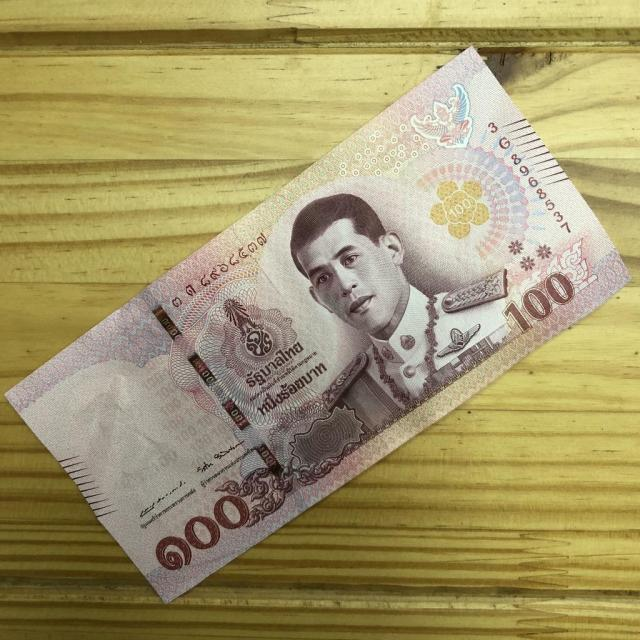THAI100: (6, 49, 629, 602)
